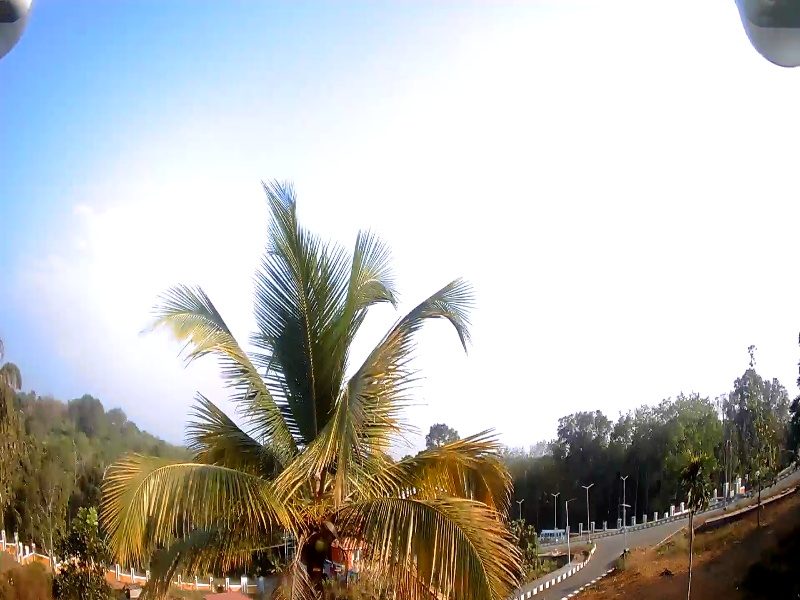coconut: (309, 535, 324, 550)
